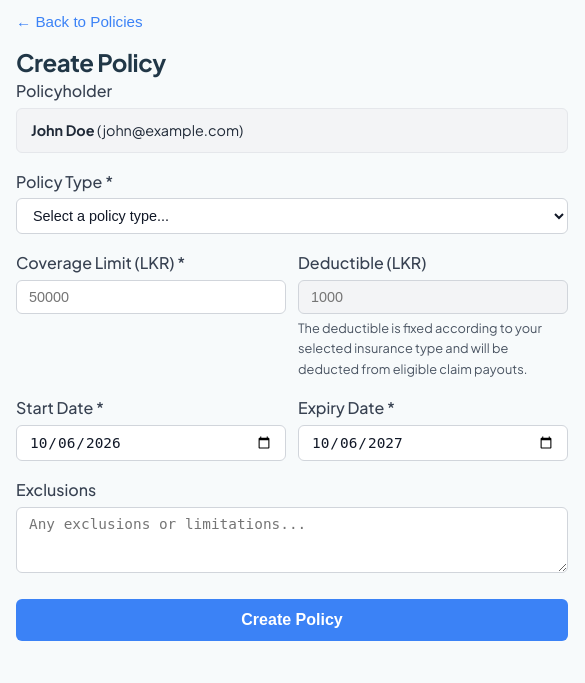
Test case: PolicyCreate Insurance Class Grouping & Fixed Deductible Rule › enforces Life deductible = 0% and shows project rule note when Life Insurance selected
Select "Life Insurance — 0% deductible" in the dropdown at (292, 216), box x1=16 y1=198 x2=568 y2=234
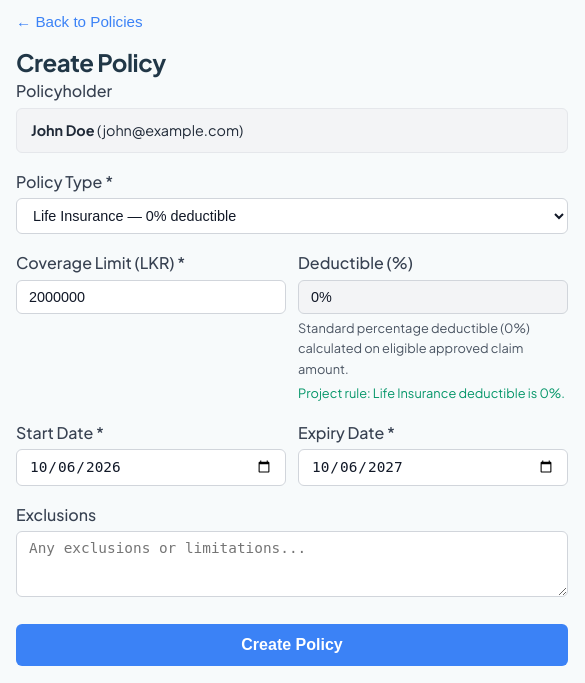
Result: the text "Project rule: Life Insurance deductible is 0%." is shown at x1=298 y1=383 x2=568 y2=404
Result: the text "percentage deductible" is shown at x1=298 y1=320 x2=530 y2=377
Result: the field with placeholder "1000" holds "0%" at x1=298 y1=280 x2=568 y2=314
